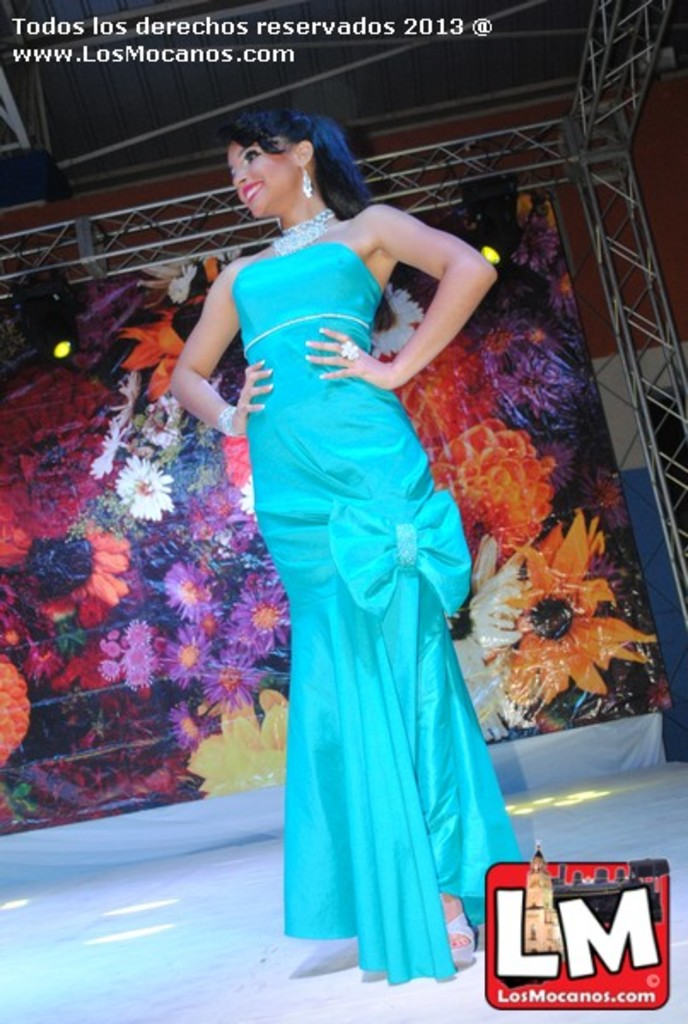Human_hand: (304, 323, 393, 393), (227, 357, 278, 439)
